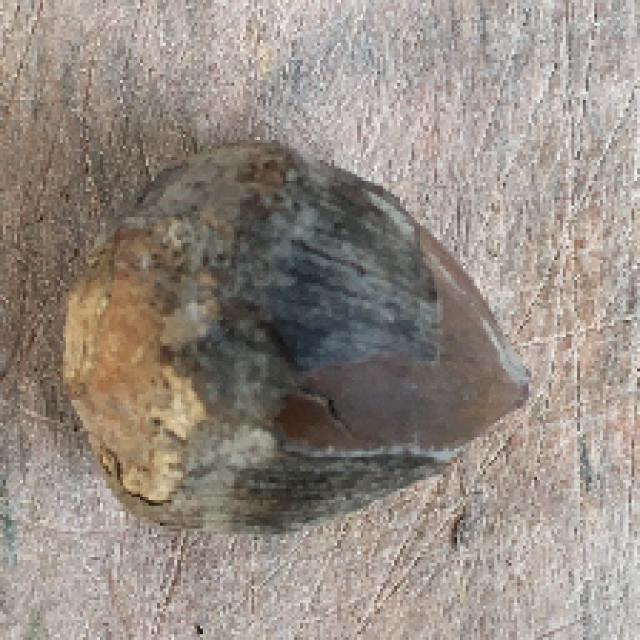damagedHazelnut: (58, 126, 540, 542)
